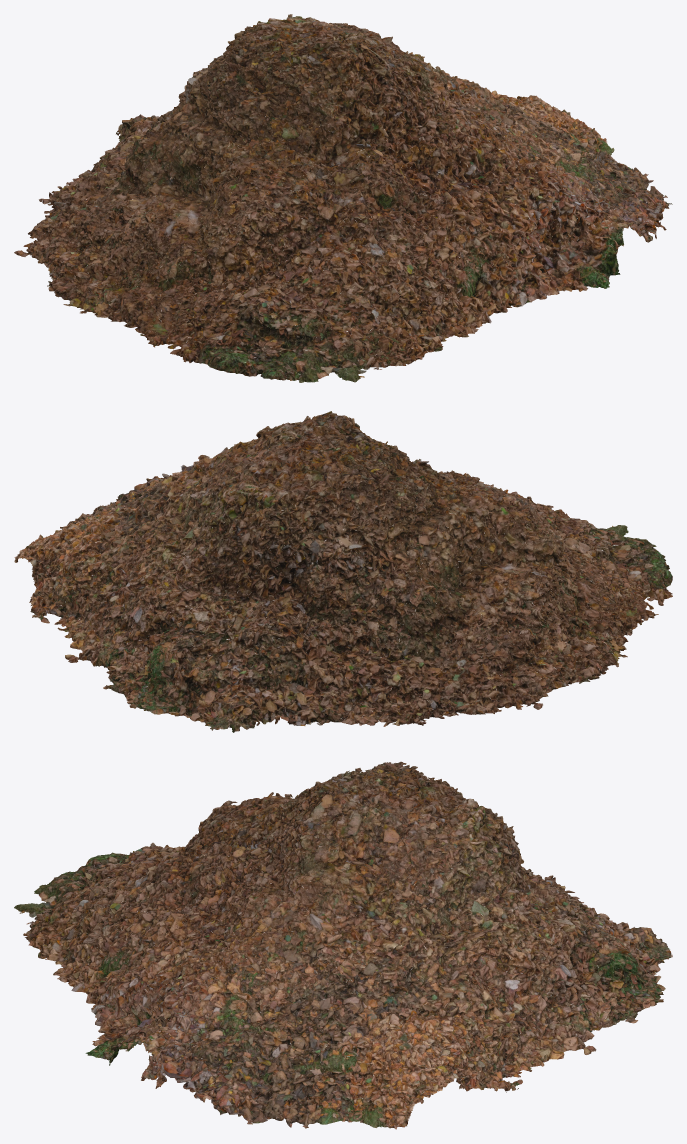
Rendered from sf-large-pile-of-leaves-48807f.glb.
3 renders of one model, top to bottom at view 1: azimuth 30°, elevation 25°; view 2: azimuth 150°, elevation 25°; view 3: azimuth 270°, elevation 25°, orthographic. The views are drawn at different scales.
Visible parts, largest first — view 1: Model_material2_0, Model_material0_0, Model_material1_0; view 2: Model_material1_0, Model_material0_0, Model_material2_0; view 3: Model_material2_0, Model_material0_0, Model_material1_0.
Part boxes in pixels (bbox=[...]): Model_material2_0: bbox=[27, 14, 672, 380]; Model_material0_0: bbox=[14, 16, 668, 382]; Model_material1_0: bbox=[23, 16, 662, 380]; Model_material1_0: bbox=[17, 416, 672, 728]; Model_material0_0: bbox=[19, 411, 672, 732]; Model_material2_0: bbox=[14, 411, 671, 725]; Model_material2_0: bbox=[24, 761, 663, 1129]; Model_material0_0: bbox=[14, 762, 672, 1124]; Model_material1_0: bbox=[16, 762, 667, 1128].
Size of the model in its own units: 3.13 by 1 by 2.99.
3 materials, 3 textured.
